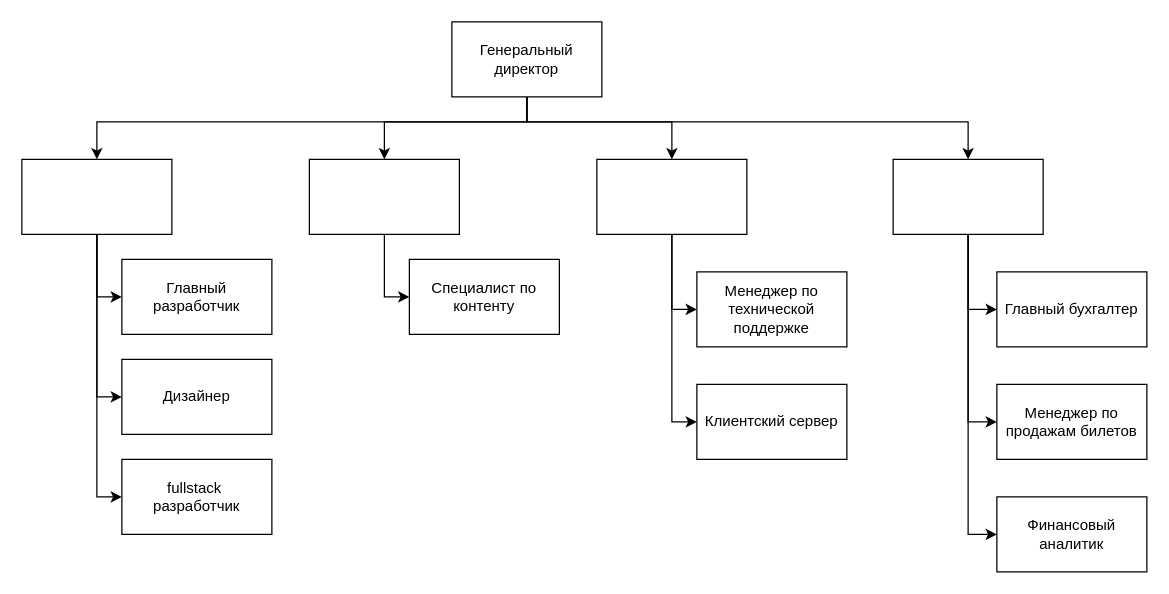
This 1169x594 diagram has some shape labels left out. The shapes that lost their labels are listed below. From the top down, each one's centre as x and y in pixels, then its label:
At [96,196]: "Отдел разработки".
At [383,196]: "Отдел редактирования сайта".
At [671,196]: "Отдел связи с пользователями".
At [967,196]: "Финансовый отдел".
